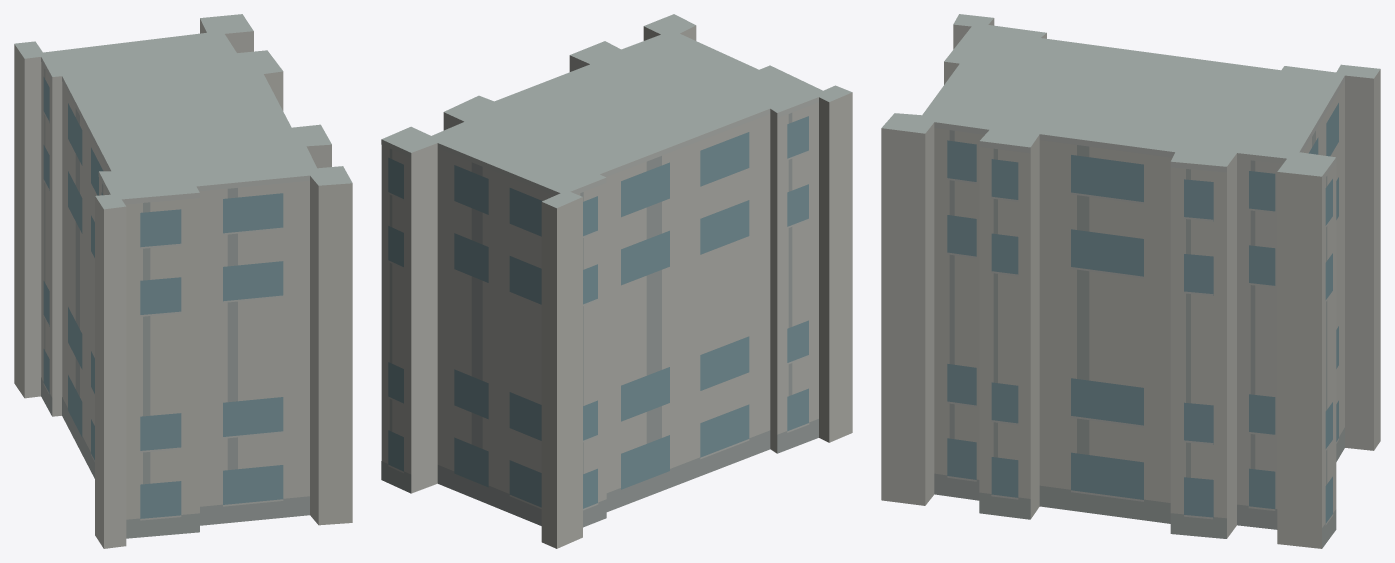
Rendered from survey-upis-32913273.glb.
The picture shows the model from 3 angles, left to right: view 1: azimuth 30°, elevation 25°; view 2: azimuth 150°, elevation 25°; view 3: azimuth 270°, elevation 25°; orthographic projection. The views are drawn at different scales.
Parts seen in each view (by area): view 1: survey-upis-32913273.tmp; view 2: survey-upis-32913273.tmp; view 3: survey-upis-32913273.tmp.
Boxes of the visible parts, left/top/right/bottom form: survey-upis-32913273.tmp: left=14, top=14, right=352, bottom=548; survey-upis-32913273.tmp: left=381, top=14, right=852, bottom=548; survey-upis-32913273.tmp: left=881, top=14, right=1380, bottom=548.
Size of the model in its own units: 14.59 by 15.56 by 18.91.
